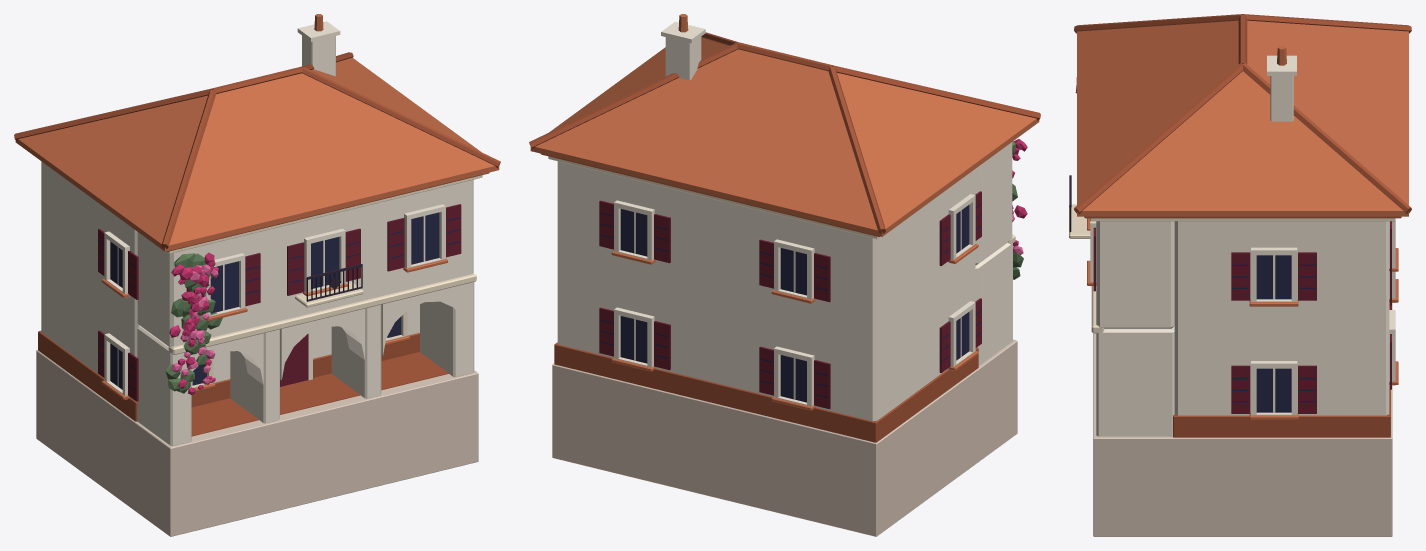
File: med_villa_tiled.glb
The picture shows the model from 3 angles, left to right: view 1: azimuth 30°, elevation 25°; view 2: azimuth 150°, elevation 25°; view 3: azimuth 270°, elevation 25°; orthographic projection. The views are drawn at different scales.
Parts seen in each view (by area): view 1: med_villa_tiled; view 2: med_villa_tiled; view 3: med_villa_tiled.
Part boxes in pixels (bbox=[...]): med_villa_tiled: bbox=[14, 14, 500, 536]; med_villa_tiled: bbox=[529, 14, 1040, 536]; med_villa_tiled: bbox=[1069, 14, 1411, 536].
Size of the model in its own units: 11.16 by 12.67 by 8.78.
